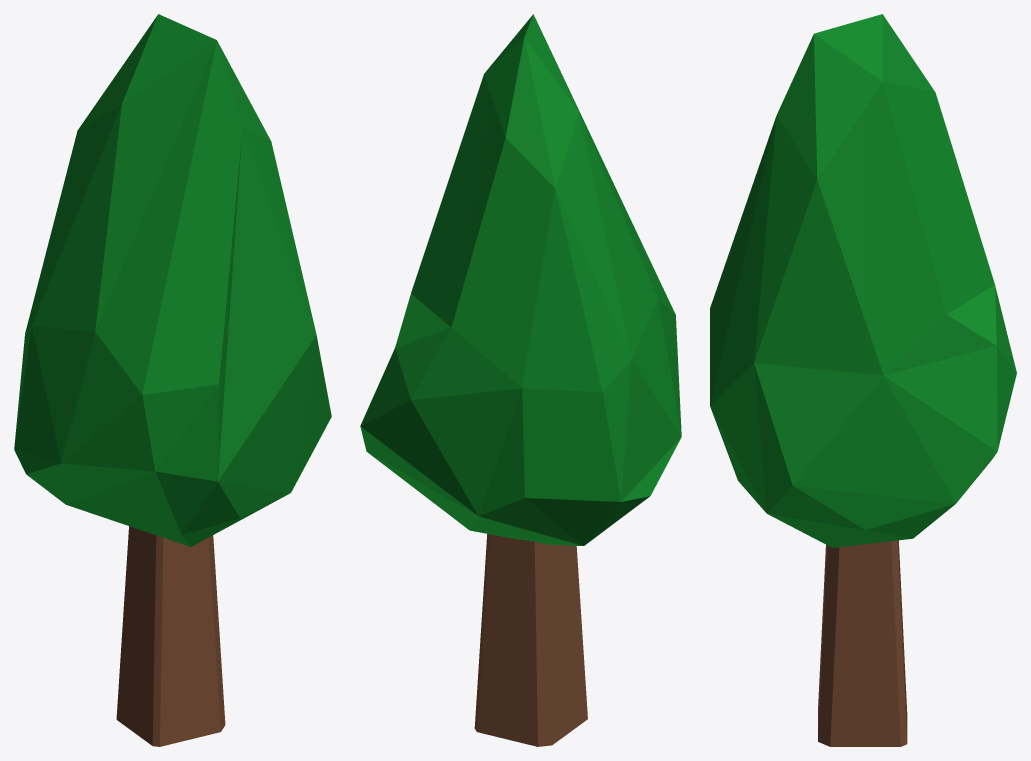
The model's file is Thintree1.glb.
3 views of the same model, side by side, from view 1: azimuth 30°, elevation 25°; view 2: azimuth 150°, elevation 25°; view 3: azimuth 270°, elevation 25° (orthographic). The views are drawn at different scales.
Parts seen in each view (by area): view 1: Thin tree; view 2: Thin tree; view 3: Thin tree.
Part boxes in pixels (left/top/right/bottom): Thin tree: left=14, top=14, right=331, bottom=746; Thin tree: left=360, top=14, right=681, bottom=746; Thin tree: left=710, top=14, right=1016, bottom=746.
Size of the model in its own units: 23.1 by 59.84 by 23.37.
